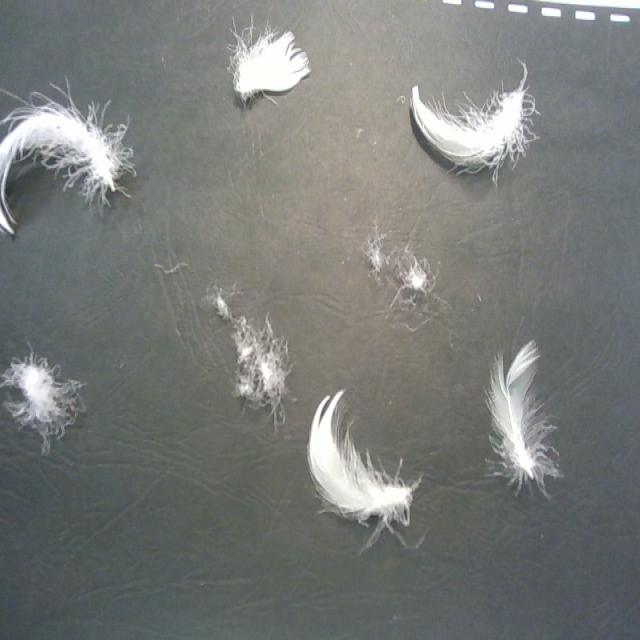feather: (0, 80, 136, 236), (302, 384, 422, 531), (407, 58, 540, 186), (484, 337, 564, 499), (0, 348, 82, 447), (226, 12, 311, 104), (232, 315, 294, 424), (395, 250, 441, 310), (363, 220, 385, 280), (205, 282, 236, 322)
